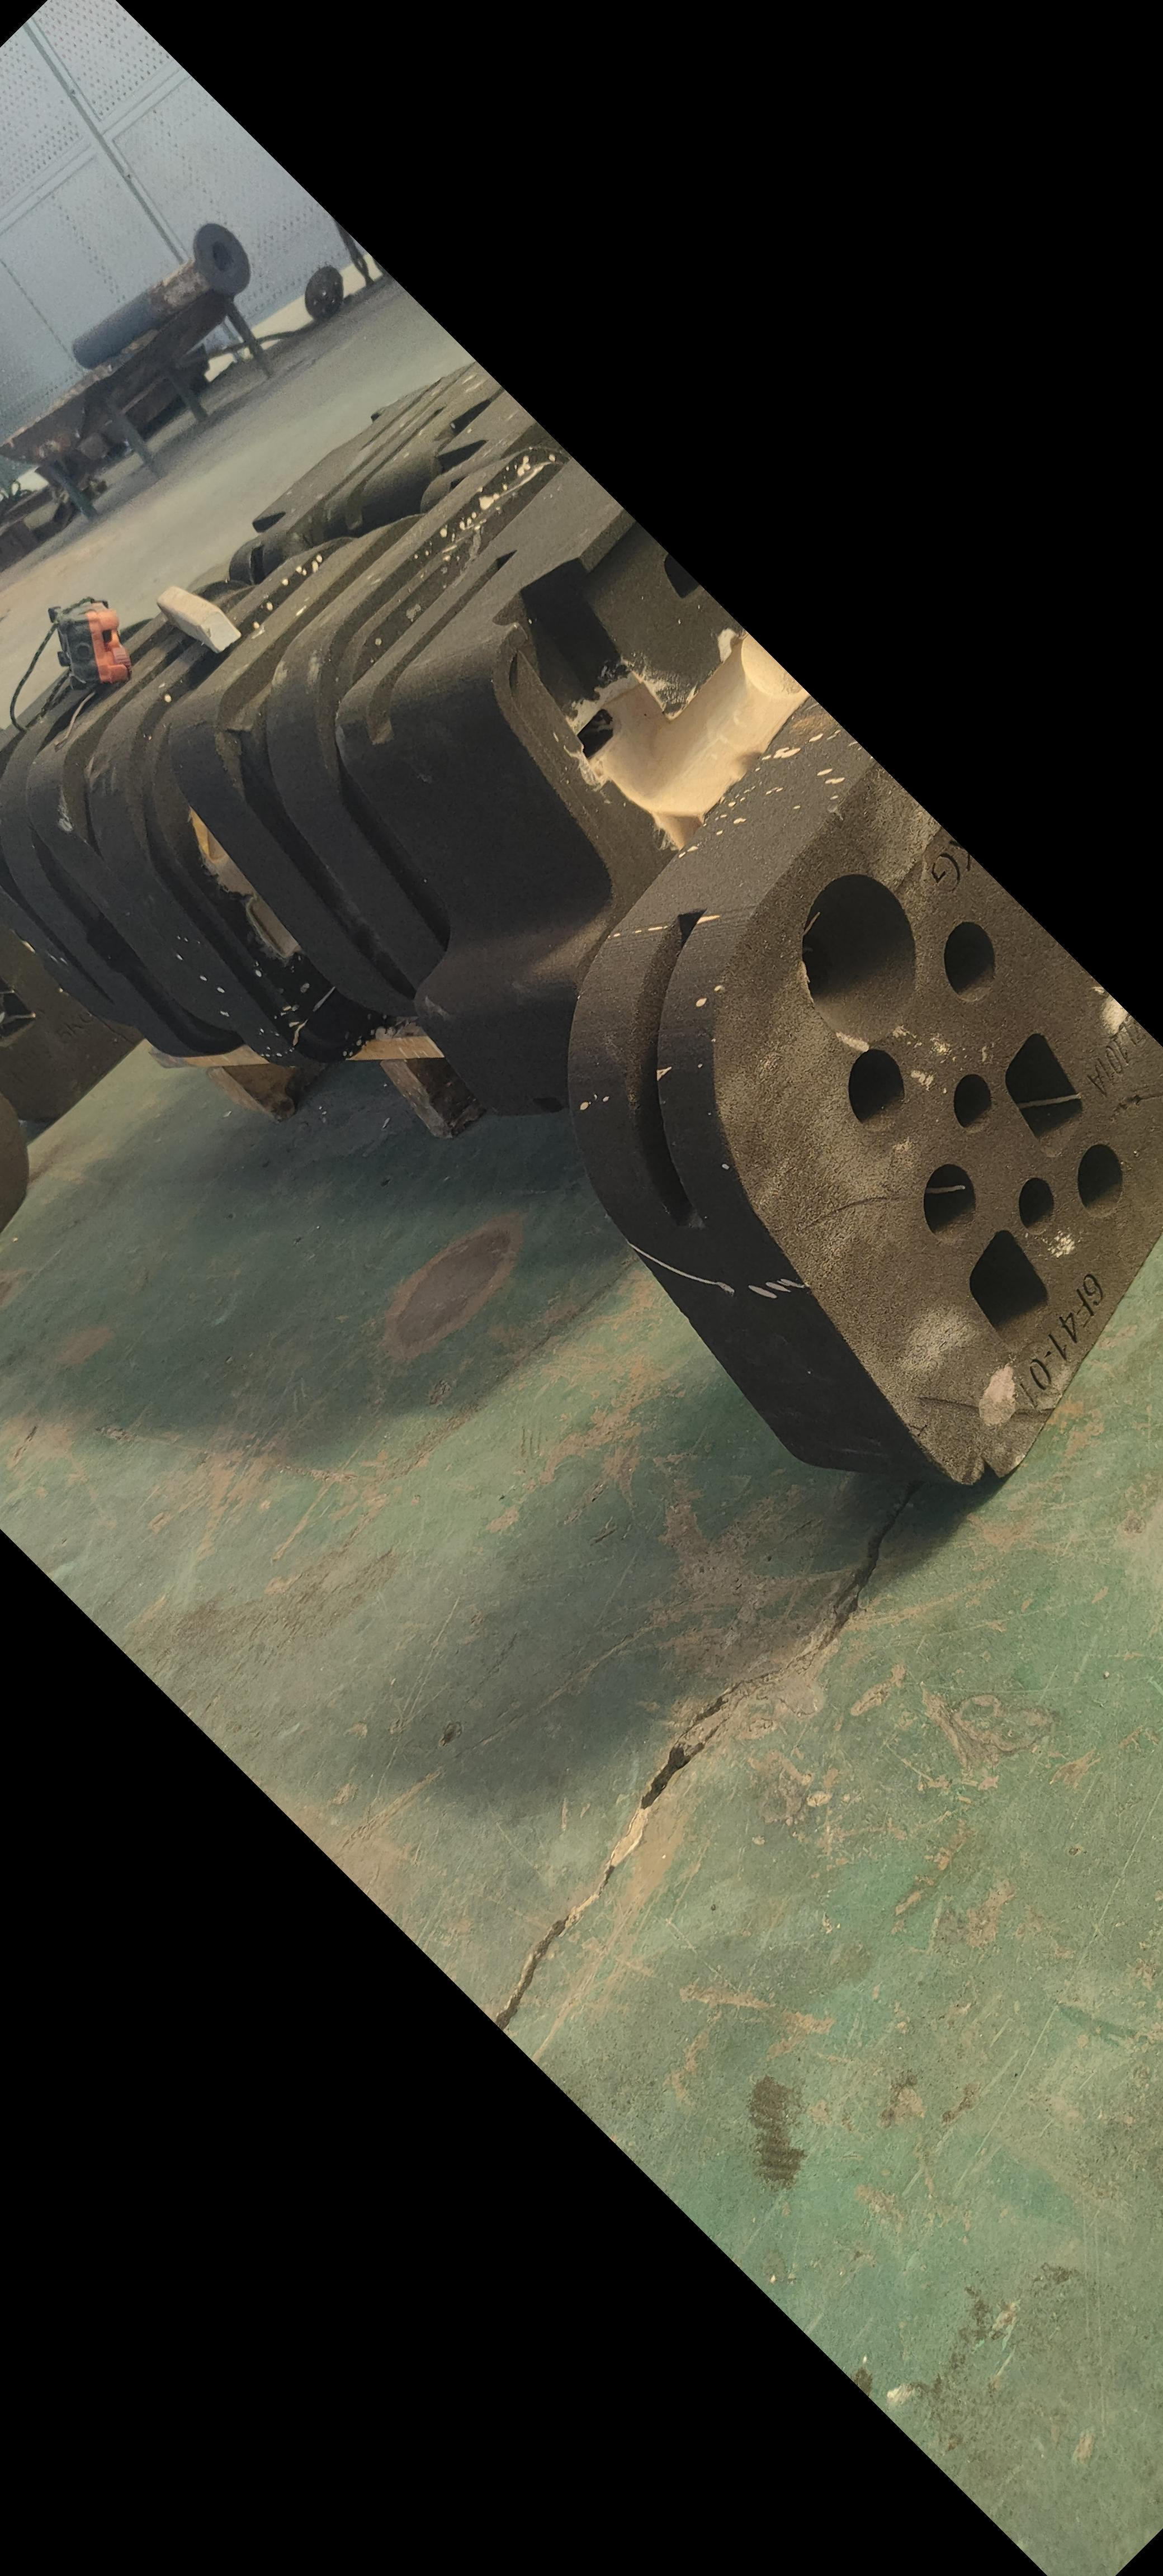pouring hole: (800, 877, 920, 1042)
